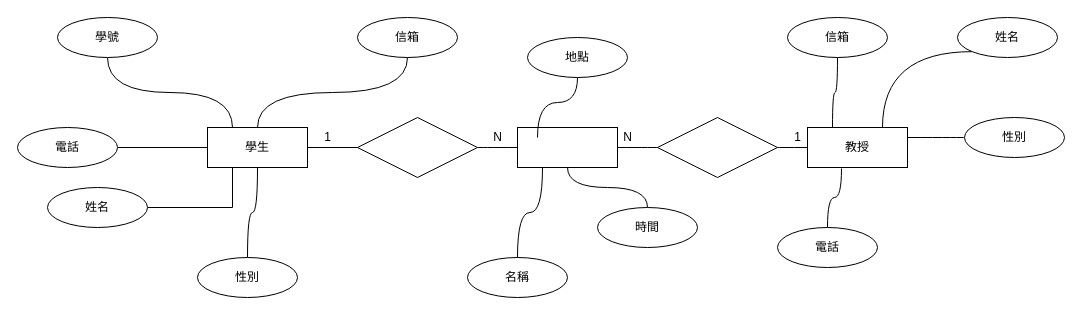
The diagram is 1082 pixels wide and 315 high, and some of its shapes have lost their labels. Each missing label, with the box of its shape:
修課: (356, 116, 478, 178)
授課: (656, 116, 778, 178)
課堂: (516, 126, 618, 168)
